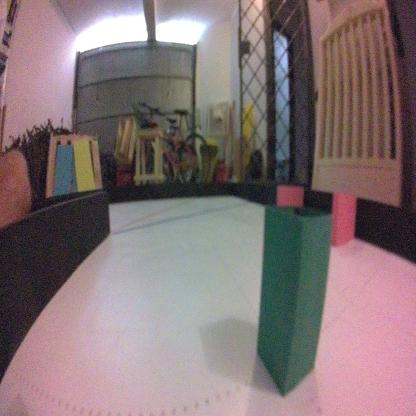green: (252, 196, 335, 398)
magenta: (332, 184, 358, 250)
